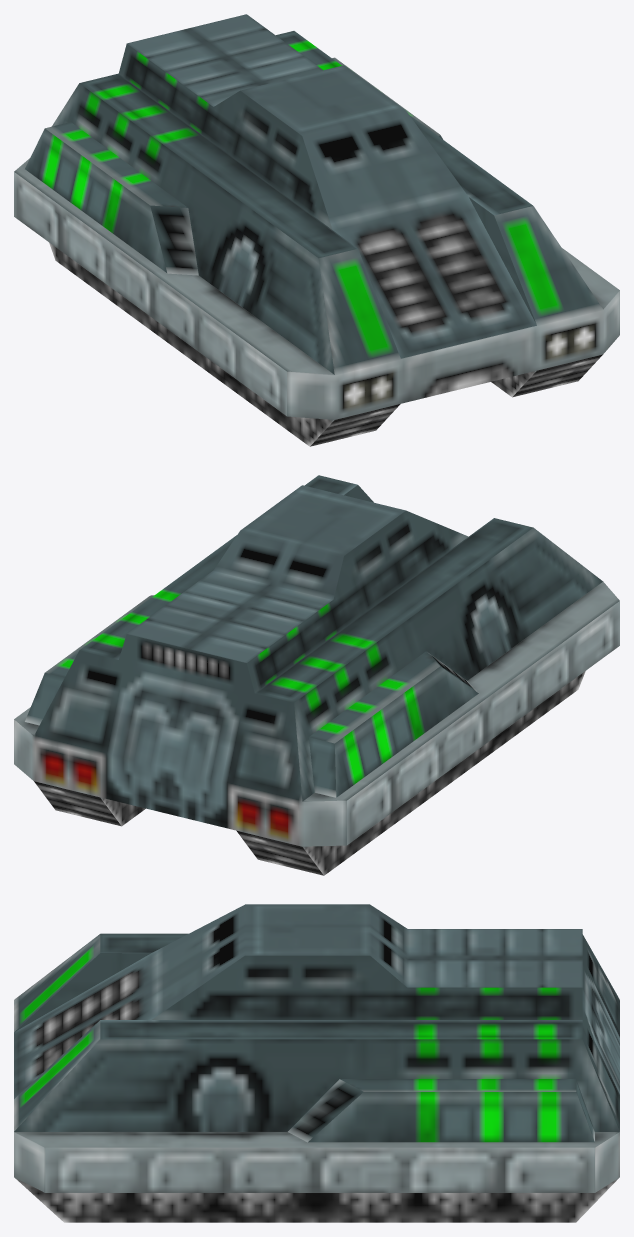
Rendered from trooptransportprop.glb.
The picture shows the model from 3 angles, top to bottom: view 1: azimuth 30°, elevation 25°; view 2: azimuth 150°, elevation 25°; view 3: azimuth 270°, elevation 25°; orthographic projection.
Parts seen in each view (by area): view 1: heavy_apc; view 2: heavy_apc; view 3: heavy_apc.
Part boxes in pixels (x1=…): heavy_apc: x1=14, y1=14, x2=619, y2=446; heavy_apc: x1=14, y1=475, x2=619, y2=875; heavy_apc: x1=14, y1=904, x2=619, y2=1222.
Bounding box in the file's own units: 4.34 × 2.8 × 6.78.
1 material, 1 textured.
